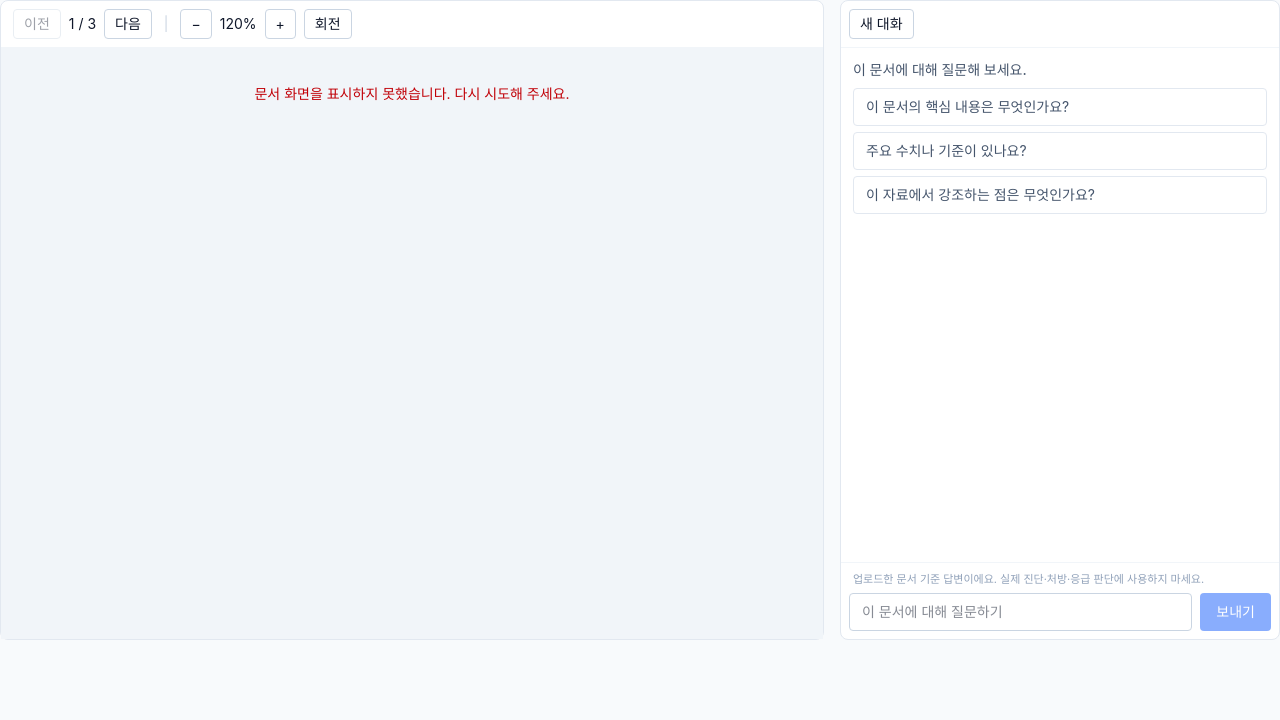
Scenario: DocumentQa › 모델 미연결(501)이면 설정 안내를 보여준다
Expected: the text "이 문서에 대해 질문해 보세요." is shown, [853, 61, 1027, 78]
Step 1. Type "질문" into the field named "질문 입력" → (1021, 612), box [849, 593, 1192, 631]
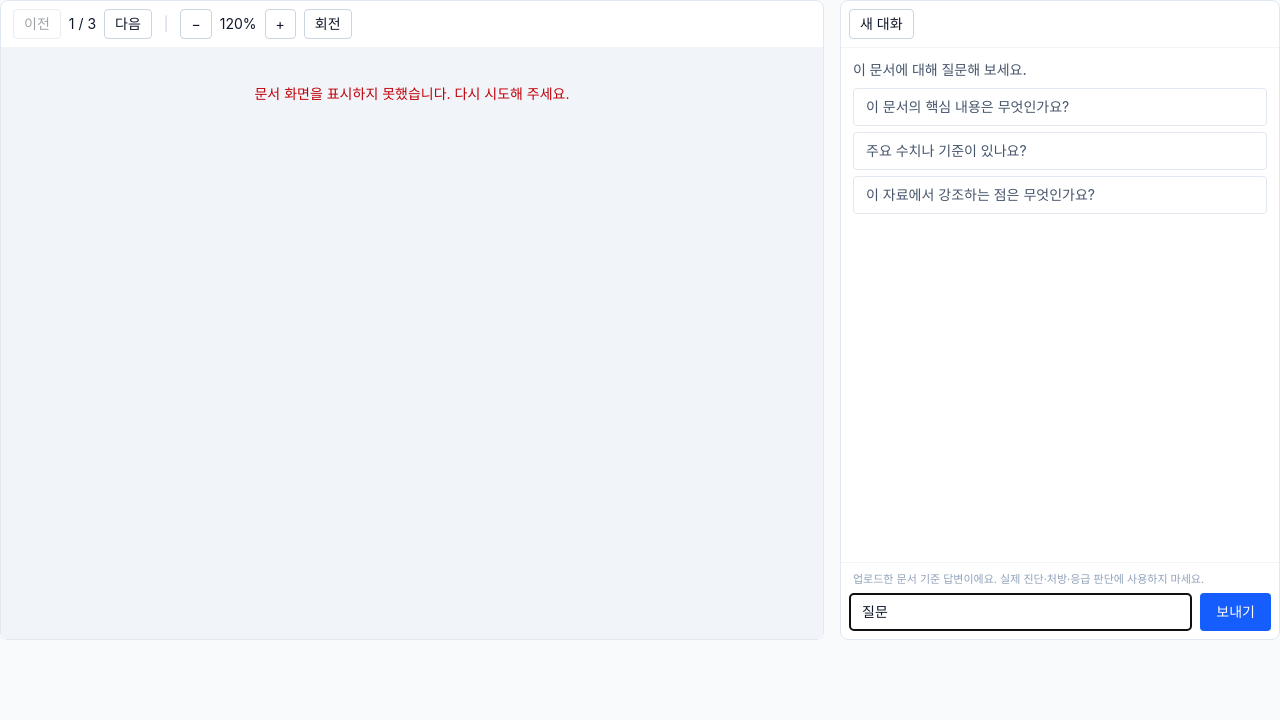
Step 2. Click the button "보내기" → (1236, 612), box [1200, 593, 1271, 631]
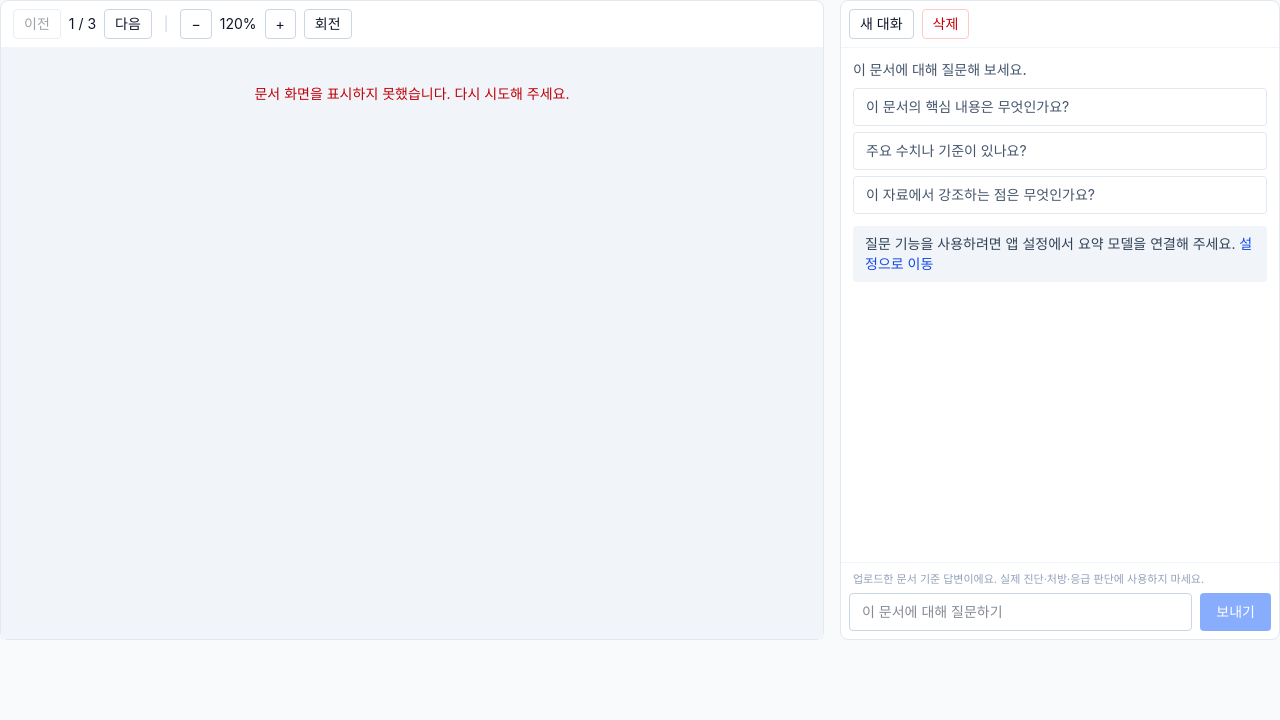
Result: the text "질문 기능을 사용하려면 앱 설정에서 요약 모델을 연결해 주세요. 설정으로 이동" is shown at [853, 226, 1267, 282]
